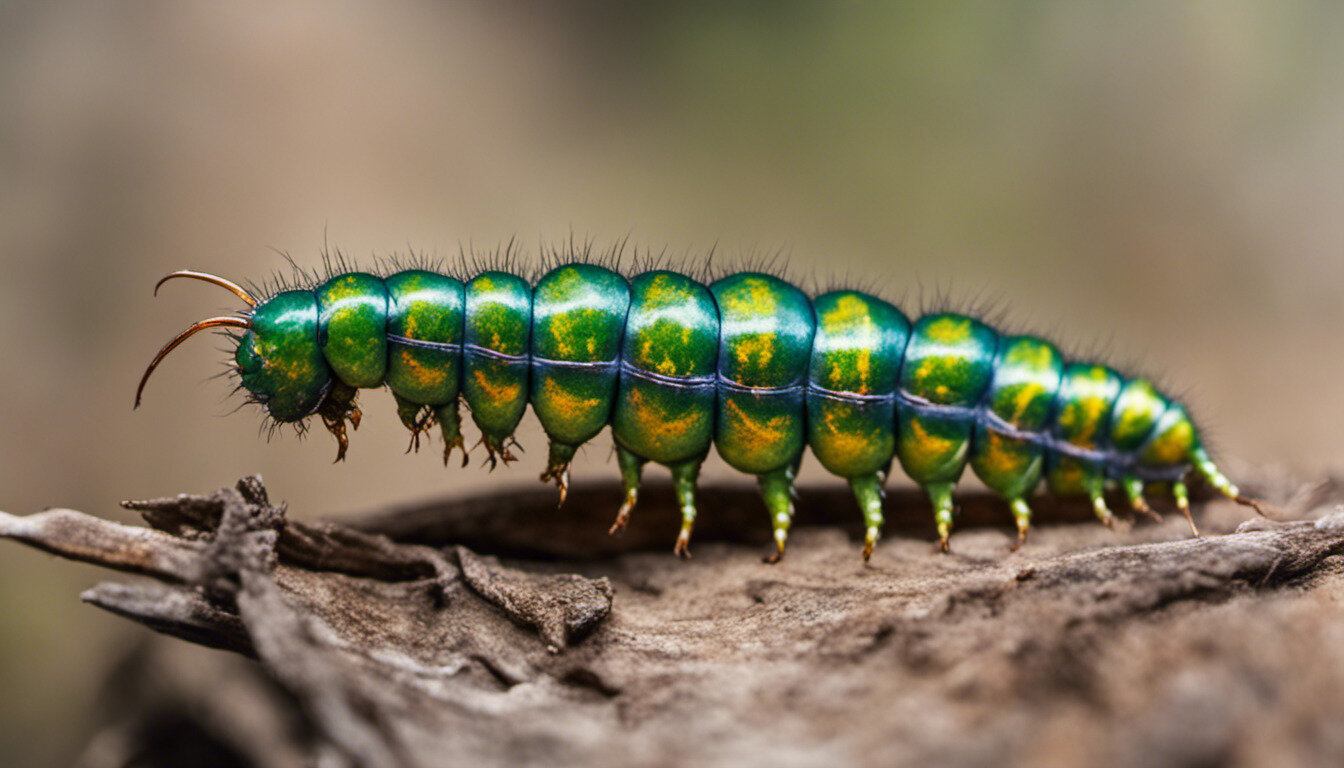Caterpillar: (125, 236, 1254, 568)
